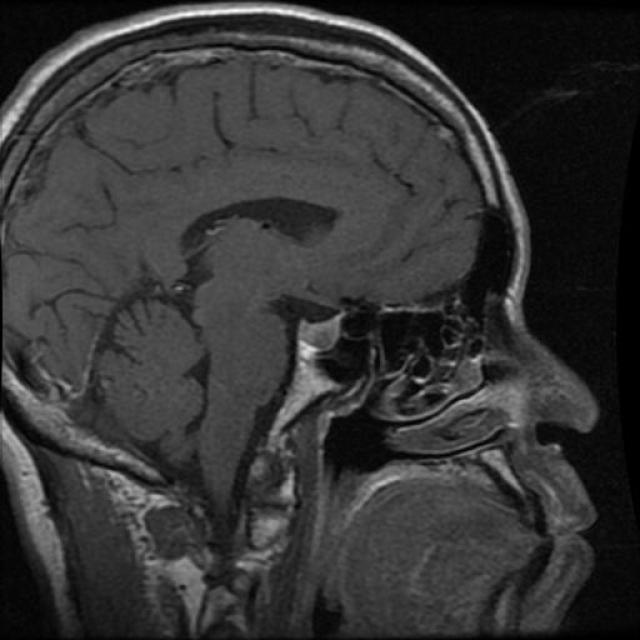pituitary: (253, 304, 359, 422)
